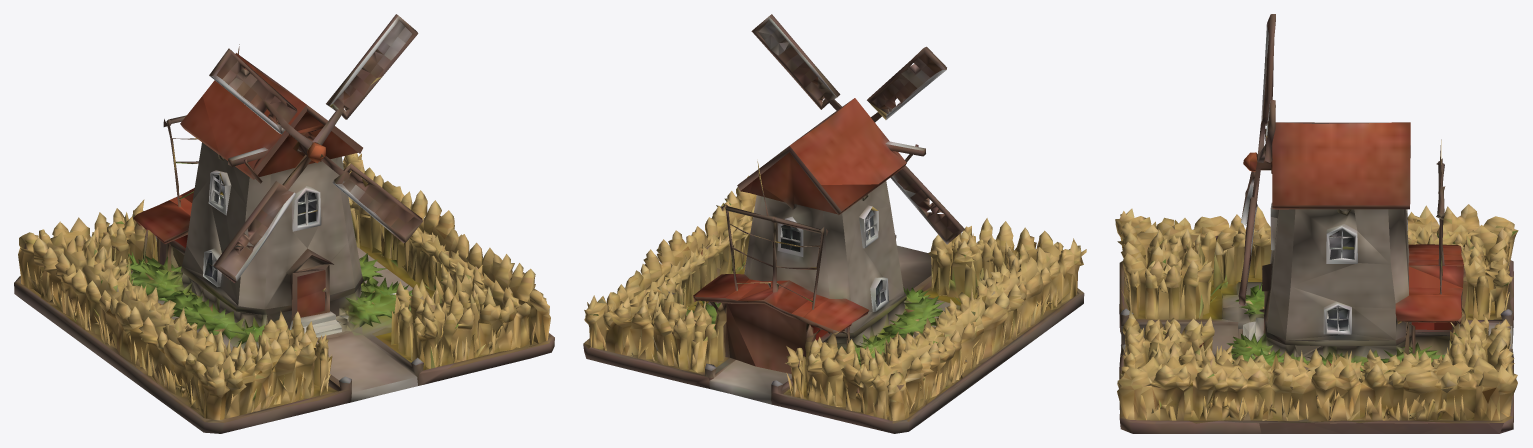
The model's file is mill.glb.
3 views of the same model, side by side, from view 1: azimuth 30°, elevation 25°; view 2: azimuth 150°, elevation 25°; view 3: azimuth 270°, elevation 25° (orthographic). The views are drawn at different scales.
Visible parts, largest first — view 1: tripo_node_097b9139; view 2: tripo_node_097b9139; view 3: tripo_node_097b9139.
Boxes of the visible parts, x1=… form: tripo_node_097b9139: x1=14, y1=14, x2=554, y2=433; tripo_node_097b9139: x1=583, y1=14, x2=1086, y2=433; tripo_node_097b9139: x1=1115, y1=14, x2=1518, y2=433.
Size of the model in its own units: 1.19 by 1 by 1.21.
1 material, 1 textured.
